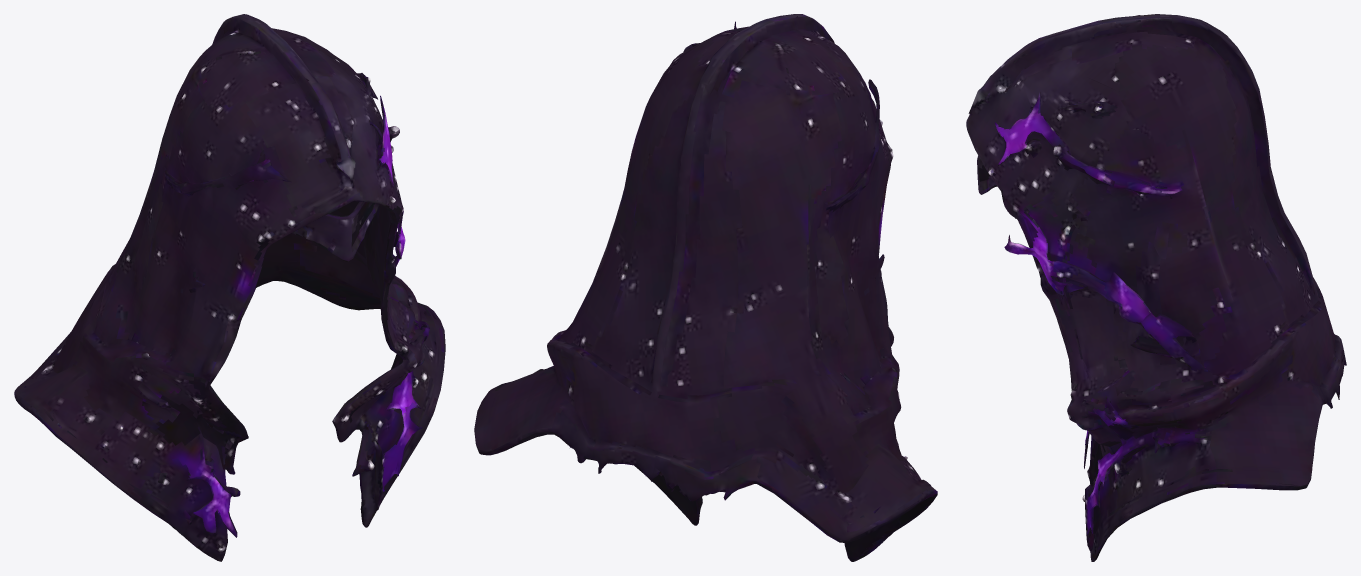
File: tecelao-elmo.glb
3 renders of one model, left to right at view 1: azimuth 30°, elevation 25°; view 2: azimuth 150°, elevation 25°; view 3: azimuth 270°, elevation 25°, orthographic. The views are drawn at different scales.
Visible parts, largest first — view 1: tripo_node_ed327a6c-c21d-498c-a849-742316a80569; view 2: tripo_node_ed327a6c-c21d-498c-a849-742316a80569; view 3: tripo_node_ed327a6c-c21d-498c-a849-742316a80569.
Part boxes in pixels (x1=…): tripo_node_ed327a6c-c21d-498c-a849-742316a80569: x1=14, y1=14, x2=445, y2=561; tripo_node_ed327a6c-c21d-498c-a849-742316a80569: x1=474, y1=14, x2=937, y2=561; tripo_node_ed327a6c-c21d-498c-a849-742316a80569: x1=966, y1=14, x2=1346, y2=561.
Size of the model in its own units: 0.8307 by 0.9766 by 0.6613.
Materials: 1 (1 with a texture image).
